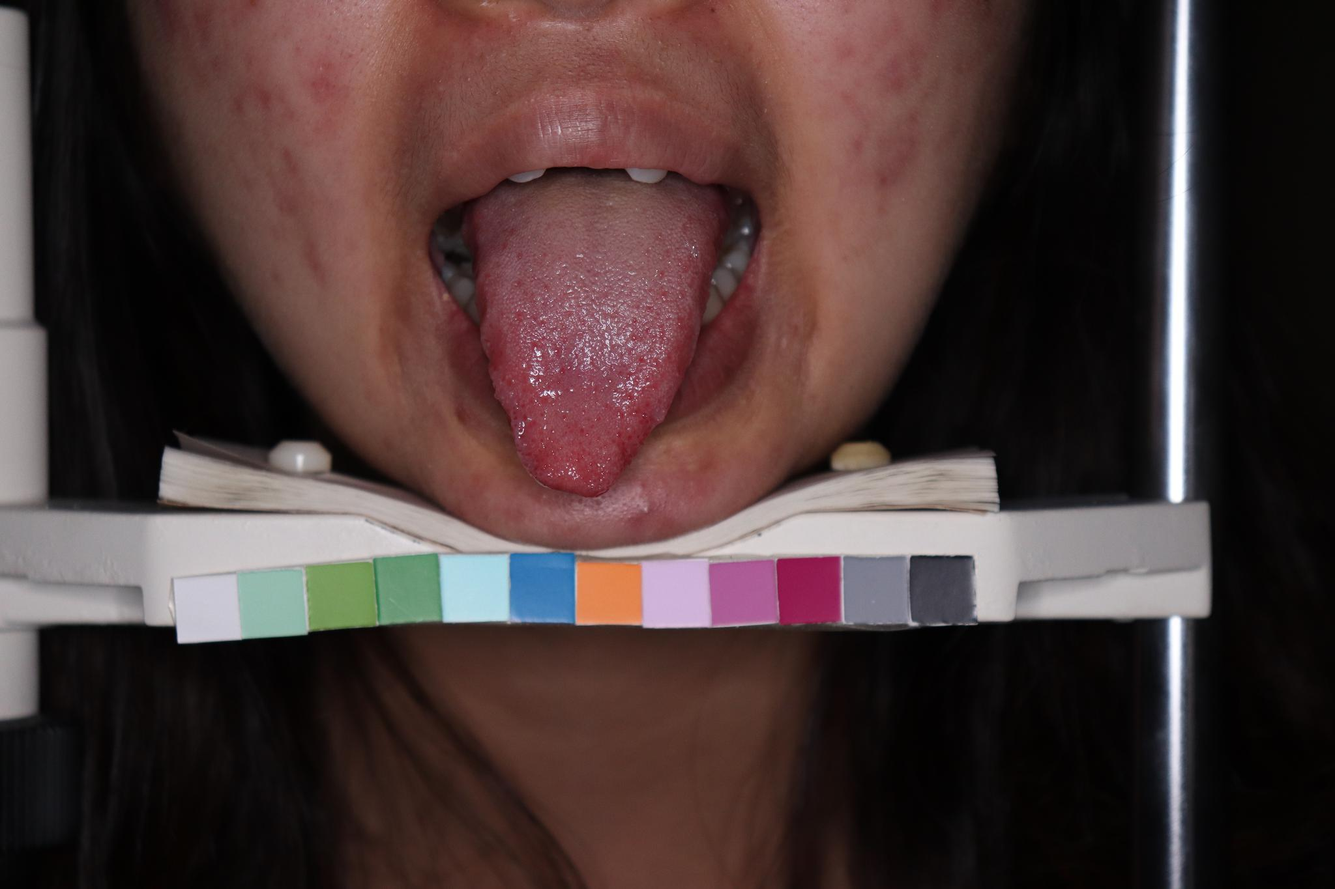hongdianshe: (556, 364, 565, 376), (640, 409, 649, 419), (520, 412, 528, 423), (577, 425, 585, 435), (614, 431, 623, 438)
huangtaishe: (458, 168, 729, 498)
